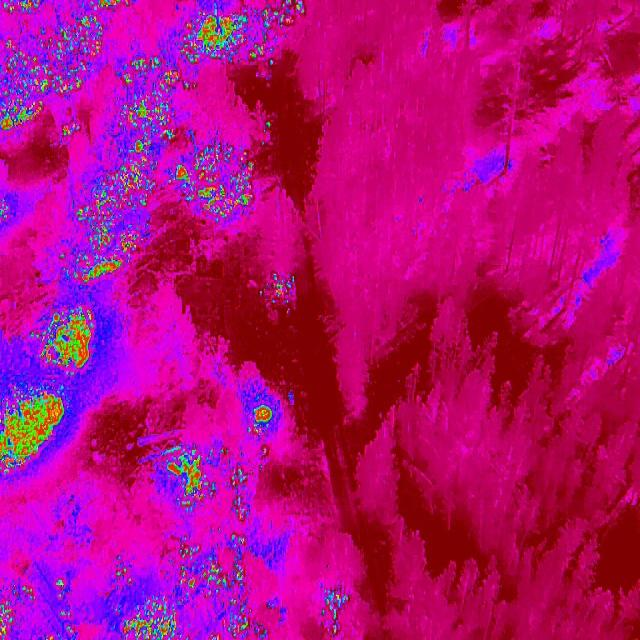fire: (0, 11, 105, 139), (74, 152, 158, 256), (176, 0, 302, 69), (169, 142, 265, 227), (120, 54, 182, 157), (101, 561, 176, 640), (0, 386, 65, 474), (28, 308, 100, 378), (175, 535, 248, 601), (166, 442, 214, 512), (238, 398, 282, 458), (224, 460, 262, 528), (206, 602, 272, 640), (42, 576, 77, 640), (316, 584, 353, 636), (0, 582, 33, 640), (73, 252, 127, 286), (260, 270, 298, 316), (0, 0, 53, 18), (85, 0, 130, 12), (0, 199, 10, 226), (263, 116, 274, 136)
